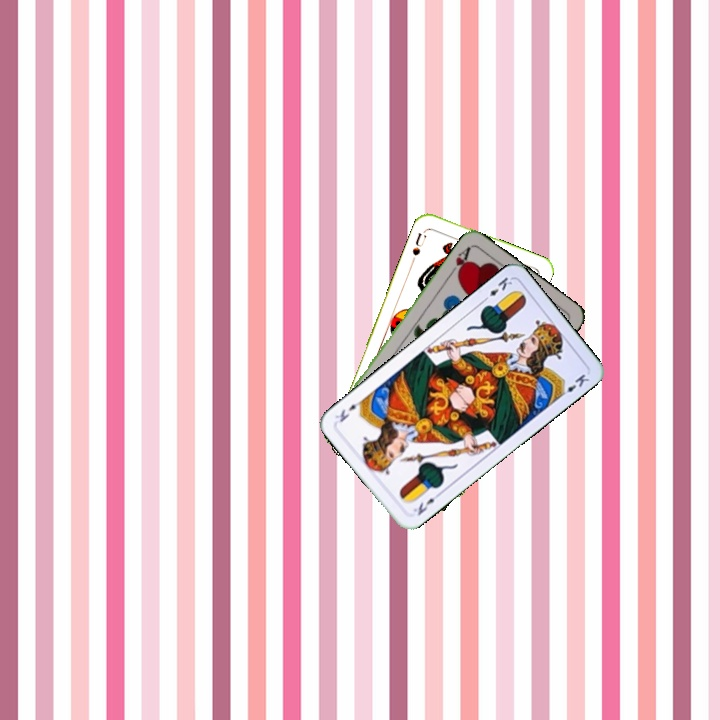EK: (478, 273, 515, 305), (409, 489, 443, 518)
HA: (445, 243, 473, 279)
SU: (408, 225, 430, 258)
